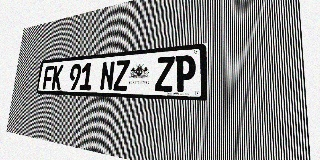1: (79, 63, 93, 90)
9: (68, 63, 82, 90)
F: (42, 66, 54, 89)
K: (51, 65, 64, 90)
N: (99, 61, 115, 91)
P: (174, 54, 196, 92)
Z: (155, 56, 175, 92), (113, 60, 130, 91)
